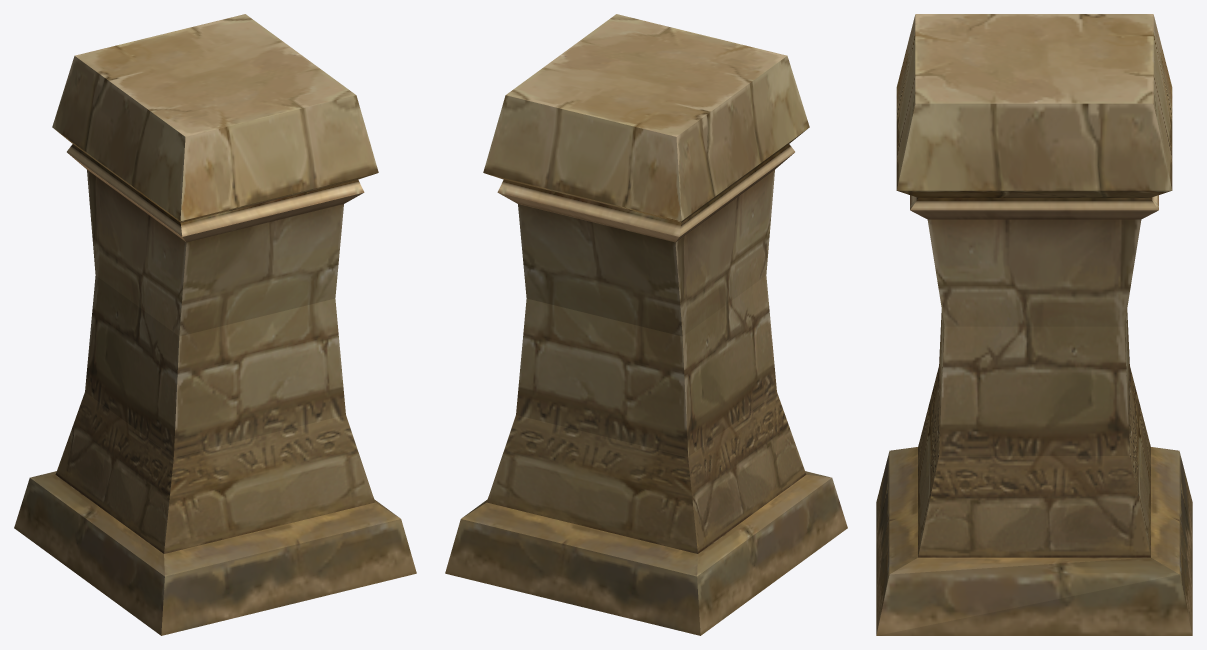
The model's file is lv7_qiang_3.FBX.
3 renders of one model, left to right at view 1: azimuth 30°, elevation 25°; view 2: azimuth 150°, elevation 25°; view 3: azimuth 270°, elevation 25°, orthographic. The views are drawn at different scales.
Parts seen in each view (by area): view 1: lv7_qiang_3; view 2: lv7_qiang_3; view 3: lv7_qiang_3.
Boxes of the visible parts, box(x1,y1,x2,y2) form: lv7_qiang_3: box(14, 14, 416, 635); lv7_qiang_3: box(445, 14, 847, 635); lv7_qiang_3: box(876, 14, 1192, 635).
Bounding box in the file's own units: 248 × 440 × 247.
